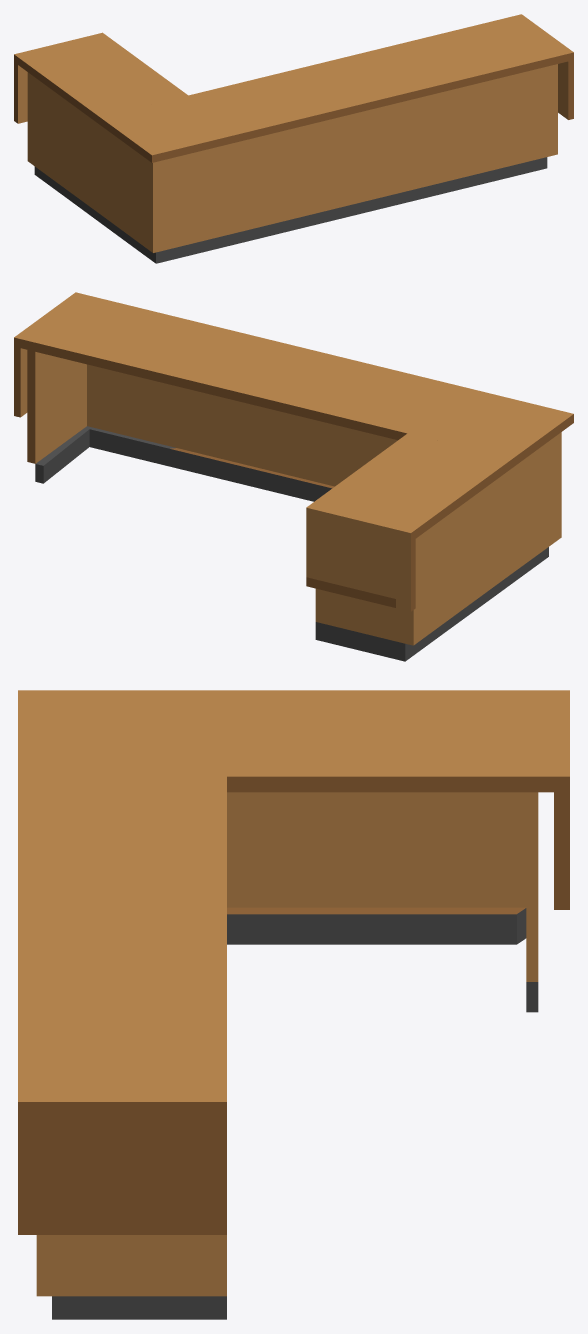
File: table_reception.fbx
3 views of the same model, one above another, from view 1: azimuth 30°, elevation 25°; view 2: azimuth 150°, elevation 25°; view 3: azimuth 270°, elevation 25° (orthographic). The views are drawn at different scales.
Visible parts, largest first — view 1: mesh_ReceiptTable; view 2: mesh_ReceiptTable; view 3: mesh_ReceiptTable.
Boxes of the visible parts, x1,y1,x2,y2 form: mesh_ReceiptTable: (14,14,573,263); mesh_ReceiptTable: (14,292,573,661); mesh_ReceiptTable: (18,690,569,1319).
Bounding box in the file's own units: 300 × 80 × 170.
